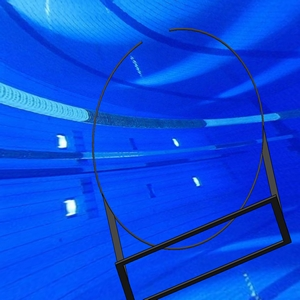circle: (90, 27, 292, 299)
